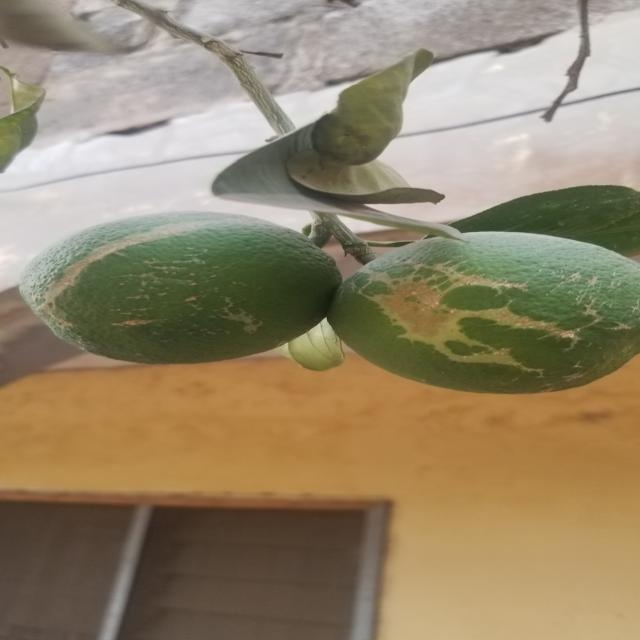agrume: (320, 233, 640, 395), (16, 213, 343, 363)
